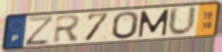7: (85, 12, 110, 43)
M: (137, 8, 171, 39)
O: (112, 11, 141, 40)
R: (52, 14, 83, 44)
U: (166, 5, 199, 38)
Z: (24, 14, 56, 47)
